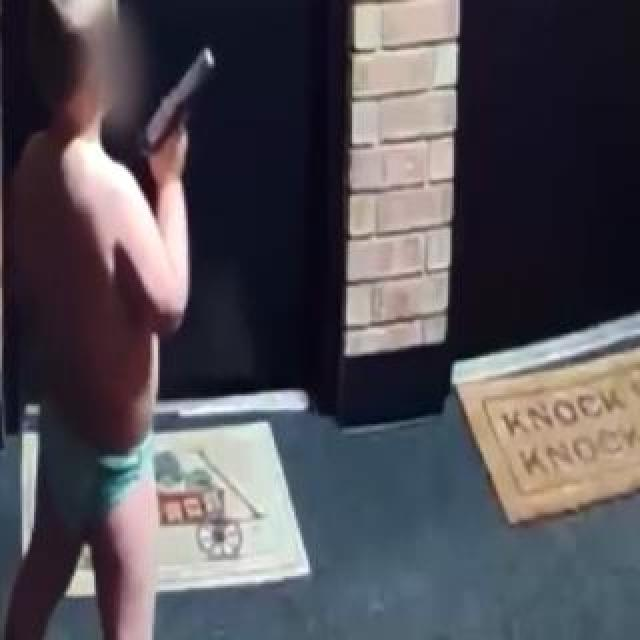Guns: (122, 35, 243, 173)
